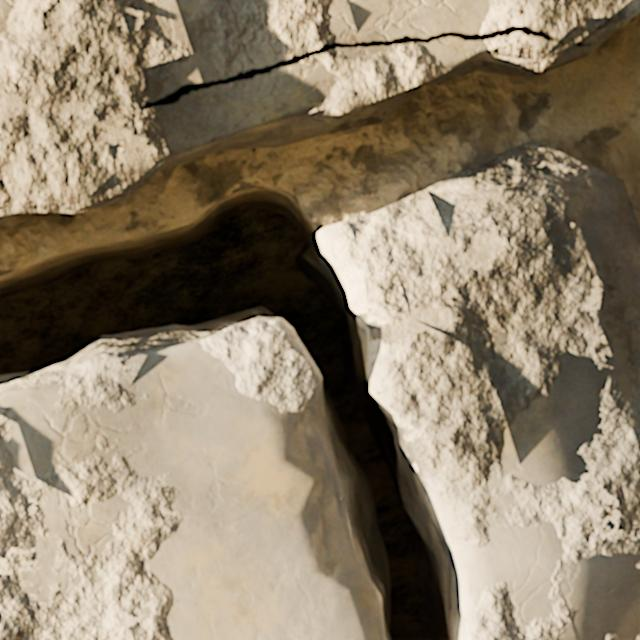broken_brick: (317, 141, 639, 639), (0, 317, 380, 639), (343, 504, 347, 518)
crack: (0, 182, 464, 639), (0, 0, 639, 225)
